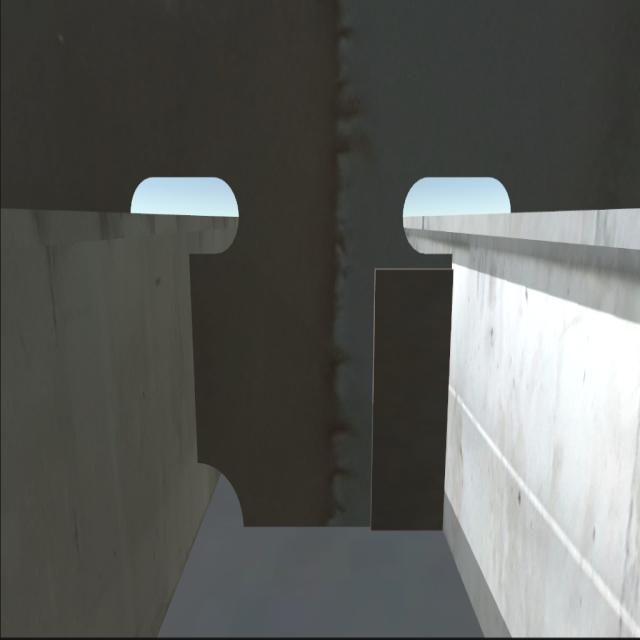fillet_hole: (199, 464, 244, 524)
fillet_yong_jeop_jang: (237, 518, 443, 542)
longi_yong_jeop_jang: (182, 247, 206, 474), (440, 263, 452, 537)
plate_CP01: (376, 263, 446, 529)
